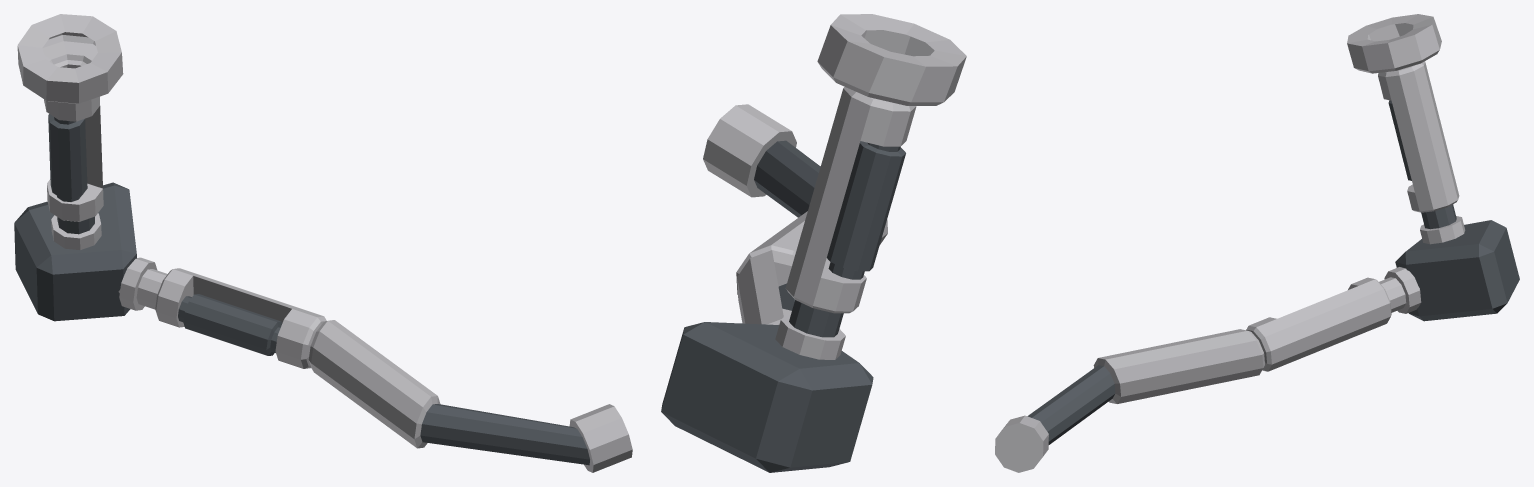
Rendered from Fighter_03_Pipes_06.fbx.
3 renders of one model, left to right at view 1: azimuth 30°, elevation 25°; view 2: azimuth 150°, elevation 25°; view 3: azimuth 270°, elevation 25°, orthographic. The views are drawn at different scales.
Parts seen in each view (by area): view 1: Fighter_03_Pipes_06; view 2: Fighter_03_Pipes_06; view 3: Fighter_03_Pipes_06.
Part boxes in pixels (bbox=[...]): Fighter_03_Pipes_06: bbox=[14, 14, 632, 472]; Fighter_03_Pipes_06: bbox=[661, 14, 966, 472]; Fighter_03_Pipes_06: bbox=[995, 14, 1519, 472].
Size of the model in its own units: 155 by 135 by 205.
Materials: 1 (1 with a texture image).
